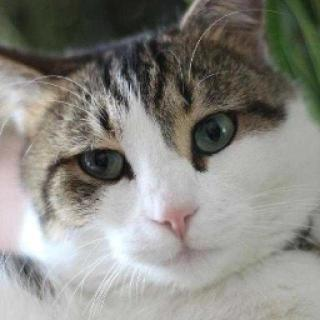cat: (28, 40, 314, 302)
nose: (148, 183, 202, 244)
